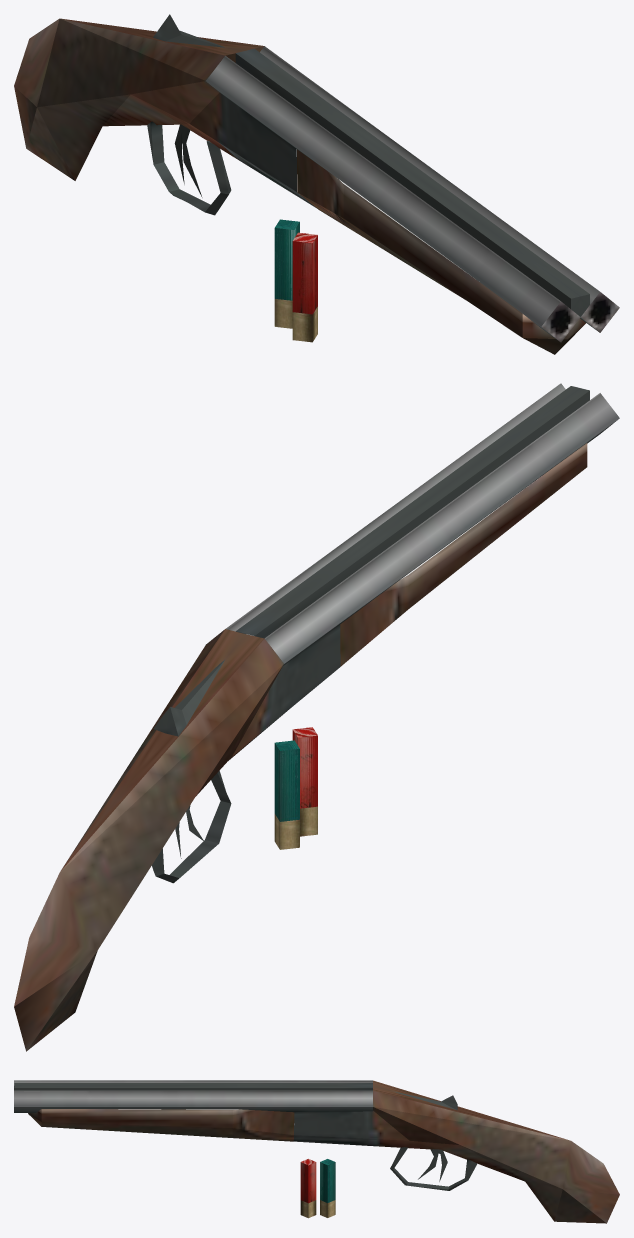
File: sawed_off_double_barrel.obj
3 views of the same model, one above another, from view 1: azimuth 30°, elevation 25°; view 2: azimuth 150°, elevation 25°; view 3: azimuth 270°, elevation 25° (orthographic). The views are drawn at different scales.
Parts seen in each view (by area): view 1: HandGaurd&Barrel.001, Body.002, ShellLowPolyRed.006, ShellLowPolyGreen.006, Trigger&Trigger.001; view 2: Body.002, HandGaurd&Barrel.001, ShellLowPolyGreen.006, ShellLowPolyRed.006, Trigger&Trigger.001; view 3: Body.002, HandGaurd&Barrel.001, ShellLowPolyRed.006, ShellLowPolyGreen.006, Trigger&Trigger.001.
Boxes of the visible parts, <box> form: HandGaurd&Barrel.001: <box>206,46,619,354</box>; Body.002: <box>14,18,317,215</box>; ShellLowPolyRed.006: <box>292,232,317,342</box>; ShellLowPolyGreen.006: <box>274,219,299,328</box>; Trigger&Trigger.001: <box>153,14,224,197</box>; Body.002: <box>14,624,340,1051</box>; HandGaurd&Barrel.001: <box>206,383,619,666</box>; ShellLowPolyGreen.006: <box>274,740,299,849</box>; ShellLowPolyRed.006: <box>292,727,317,836</box>; Trigger&Trigger.001: <box>153,660,224,858</box>; Body.002: <box>293,1080,619,1223</box>; HandGaurd&Barrel.001: <box>14,1080,372,1141</box>; ShellLowPolyRed.006: <box>300,1158,316,1218</box>; ShellLowPolyGreen.006: <box>320,1159,335,1217</box>; Trigger&Trigger.001: <box>396,1092,457,1181</box>.
Size of the model in its own units: 0.1489 by 0.4668 by 1.86.
5 materials, 5 textured.
